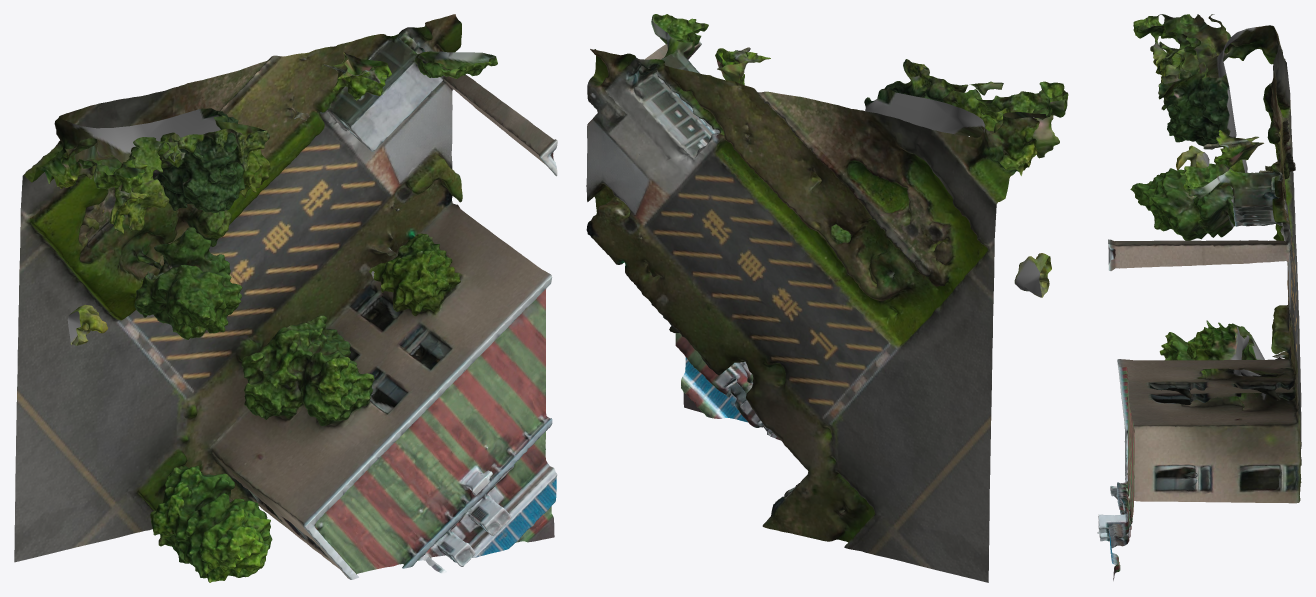
The model's file is Tile_+006_+023.fbx.
3 views of the same model, side by side, from view 1: azimuth 30°, elevation 25°; view 2: azimuth 150°, elevation 25°; view 3: azimuth 270°, elevation 25° (orthographic). The views are drawn at different scales.
Parts seen in each view (by area): view 1: DefaultName; view 2: DefaultName; view 3: DefaultName.
Boxes of the visible parts, bbox=[...] form: DefaultName: bbox=[14, 14, 557, 582]; DefaultName: bbox=[586, 14, 1068, 582]; DefaultName: bbox=[1097, 14, 1301, 580].
Bounding box in the file's own units: 22.54 × 22.54 × 10.77.
